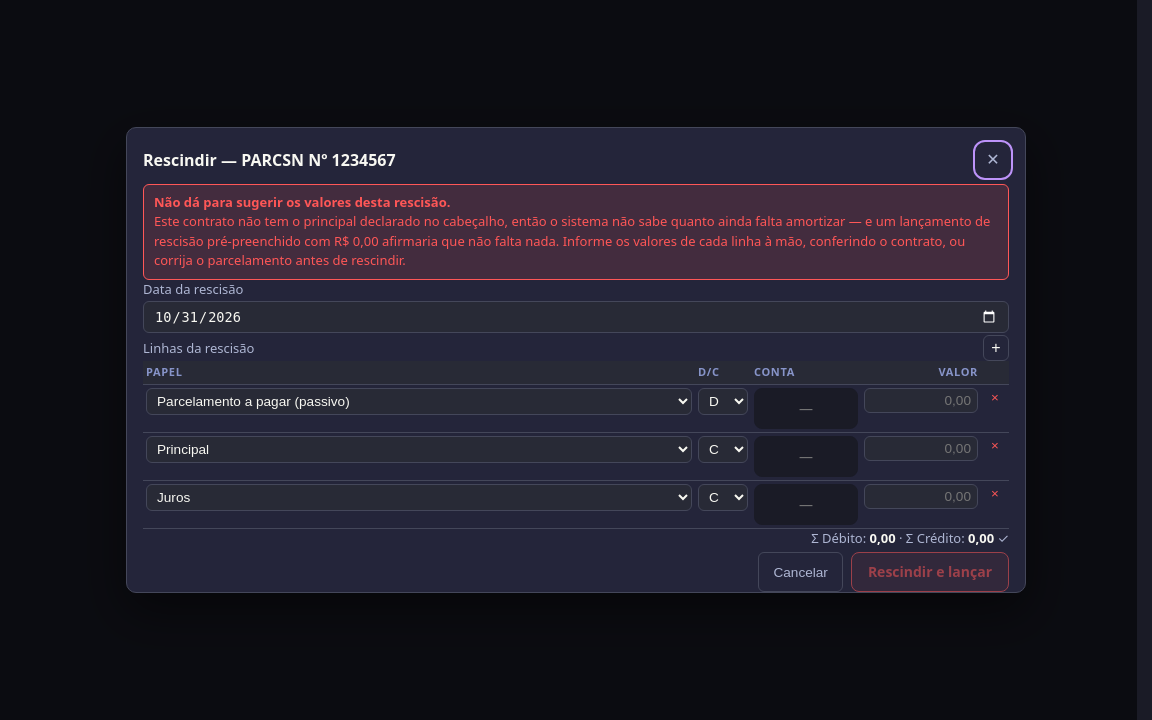
⚠ a prévia diz COMO o app leu, antes do clique › `12.000` aparece como 12.000,00 — nunca 12,00
The image size is (1152, 720).
Type "12.000" into the 1st field with placeholder "0,00" at coordinates (921, 400), box [864,388,978,413]
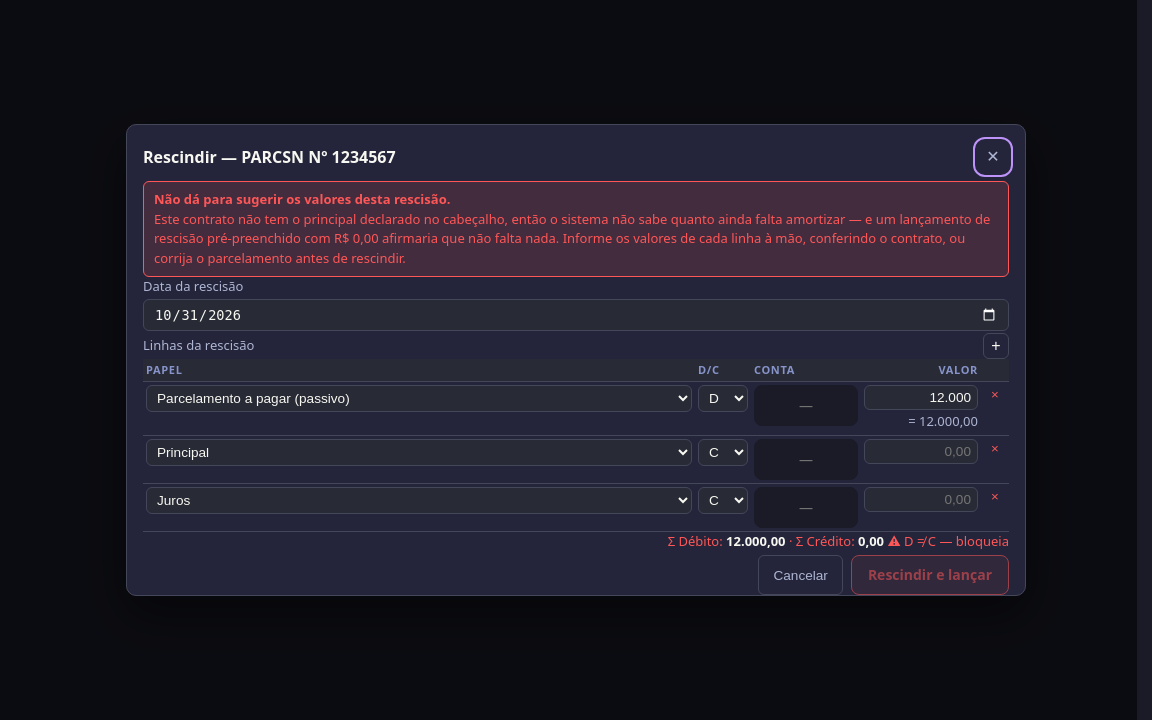
Expected: the text with test id "rescisao-previa-0" does not show "= 12,00", [908,412,978,430]
Expected: the text with test id "rescisao-previa-0" reads "= 12.000,00", [908,412,978,430]
